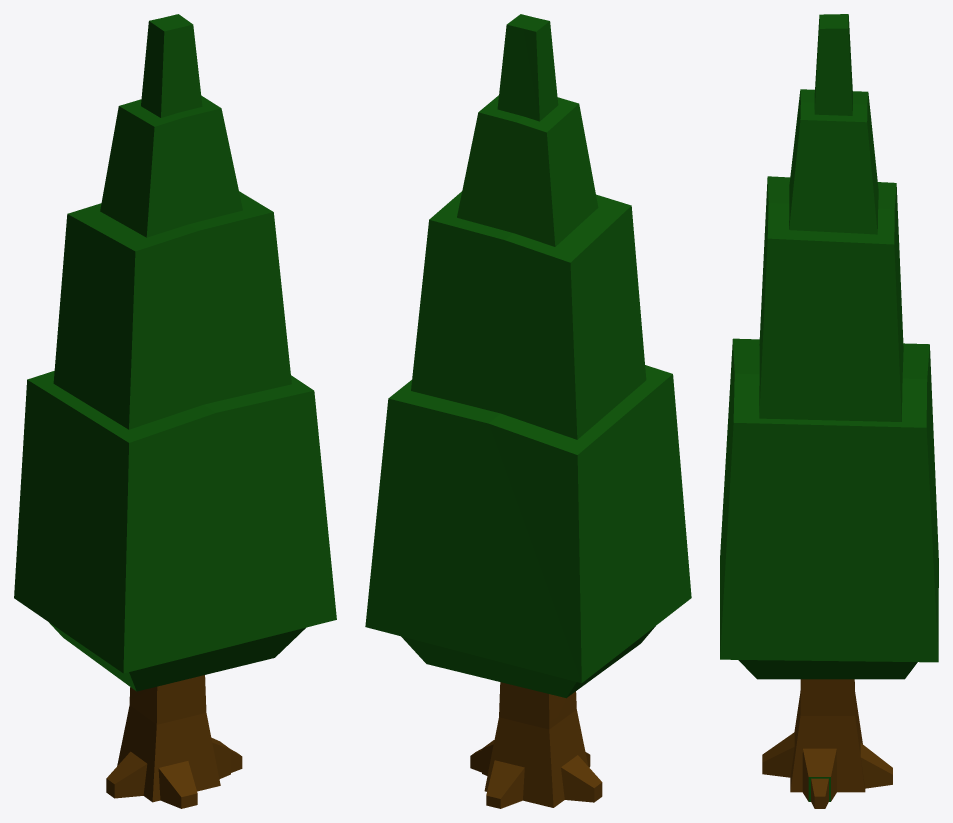
The model's file is Tree.fbx.
The picture shows the model from 3 angles, left to right: view 1: azimuth 30°, elevation 25°; view 2: azimuth 150°, elevation 25°; view 3: azimuth 270°, elevation 25°; orthographic projection.
Parts seen in each view (by area): view 1: SF_Env_Tree_Fall_07; view 2: SF_Env_Tree_Fall_07; view 3: SF_Env_Tree_Fall_07.
Boxes of the visible parts, box(x1,y1,x2,y2) form: SF_Env_Tree_Fall_07: box(14, 14, 336, 808); SF_Env_Tree_Fall_07: box(365, 14, 691, 808); SF_Env_Tree_Fall_07: box(720, 14, 938, 808).
Bounding box in the file's own units: 28.93 × 97.41 × 25.51.
